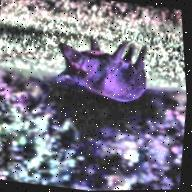boar: (42, 23, 178, 105)
